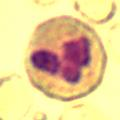neutrophil: (24, 16, 109, 99)
